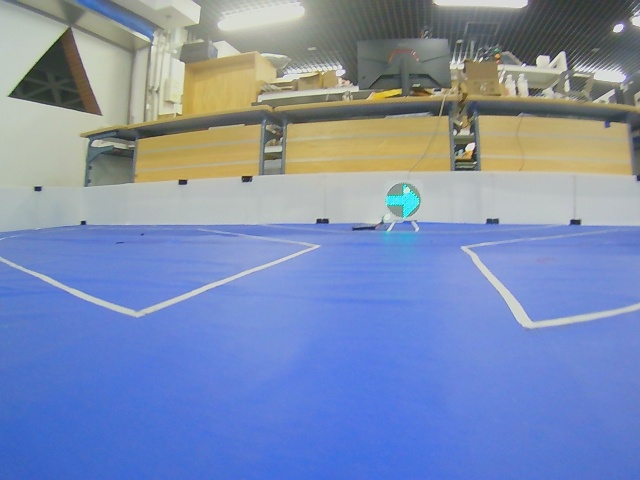right_green: (386, 183, 421, 219)
